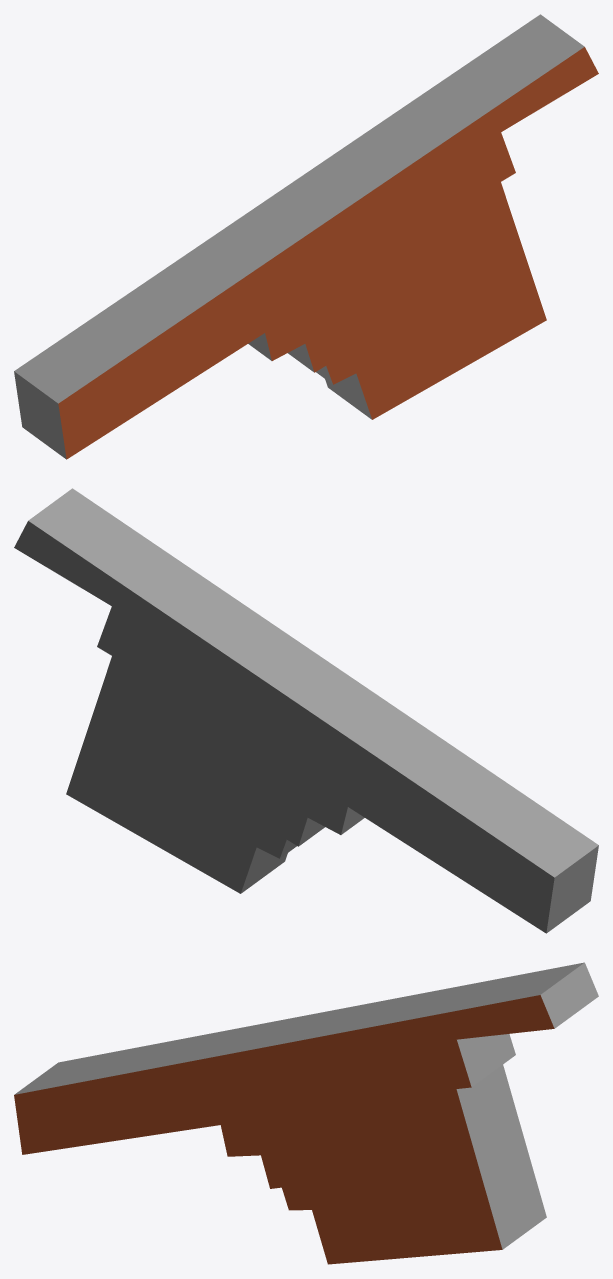
The model's file is construction_3169_assumed_A_Casa_h6m.obj.
The picture shows the model from 3 angles, top to bottom: view 1: azimuth 30°, elevation 25°; view 2: azimuth 150°, elevation 25°; view 3: azimuth 330°, elevation 25°; orthographic projection.
Visible parts, largest first — view 1: construction_3169_assumed_A_Casa; view 2: construction_3169_assumed_A_Casa; view 3: construction_3169_assumed_A_Casa.
Part boxes in pixels (<box>): construction_3169_assumed_A_Casa: <box>14,14,598,459</box>; construction_3169_assumed_A_Casa: <box>14,488,598,933</box>; construction_3169_assumed_A_Casa: <box>14,962,598,1264</box>.
Bounding box in the file's own units: 42.21 × 23.98 × 6.
